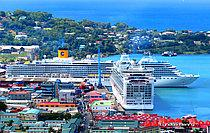Ship: (109, 52, 162, 113), (132, 51, 203, 91)
